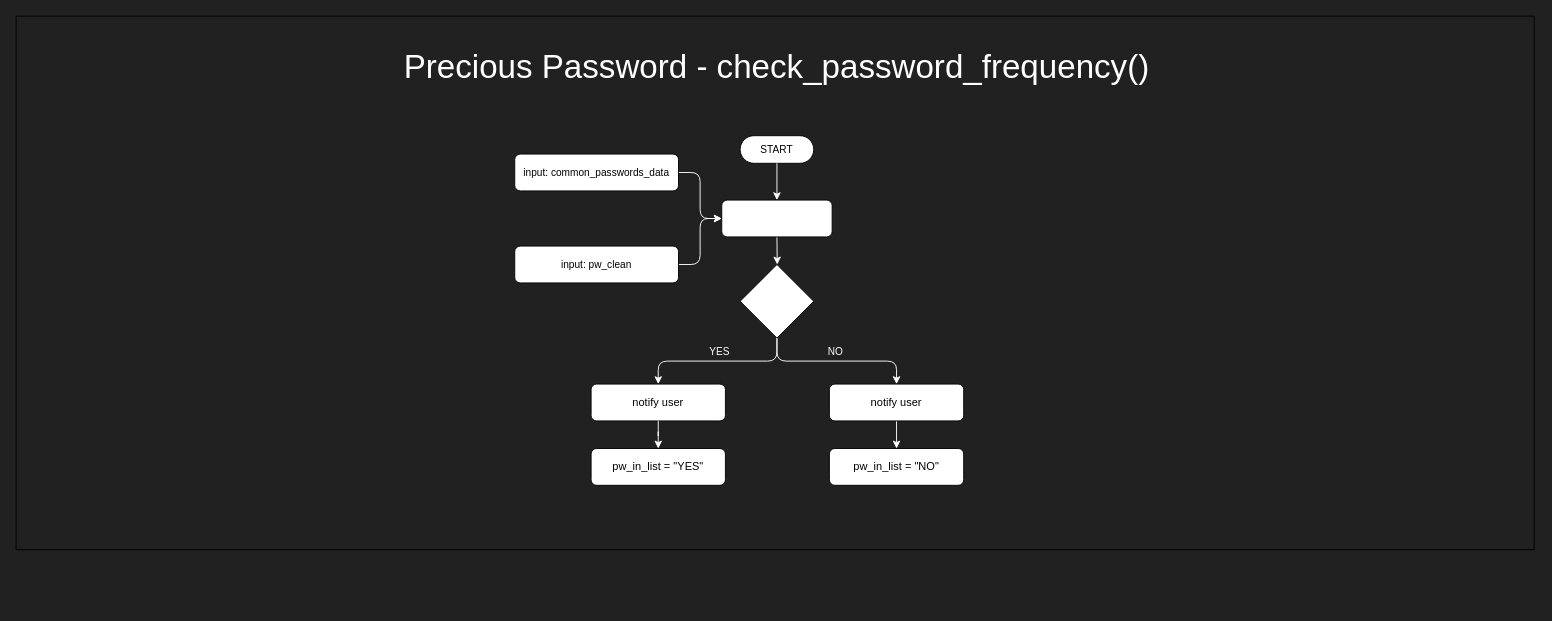
The diagram is 1552 pixels wide and 621 high, and some of its shapes have lost their labels. The centre of each missing label's shape, as x and y in pixels:
"compare" goes at pixel 776 218.
"pw_clean found?" goes at pixel 776 301.
